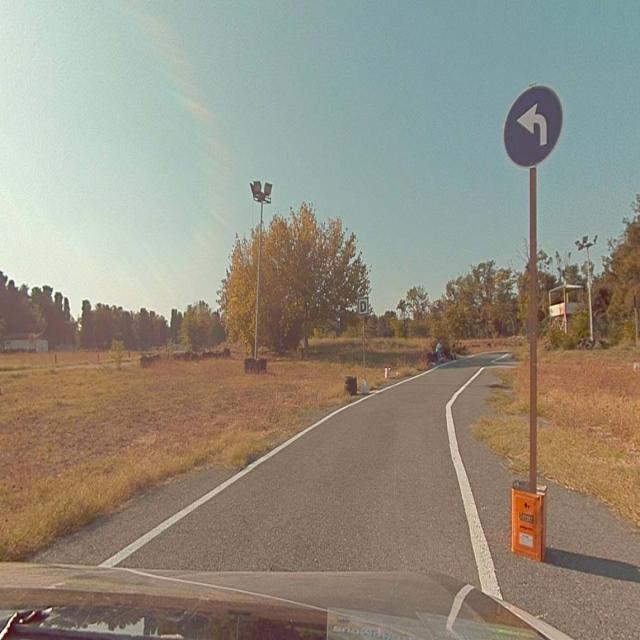durak: (358, 298, 369, 314)
sol: (503, 84, 563, 166)
